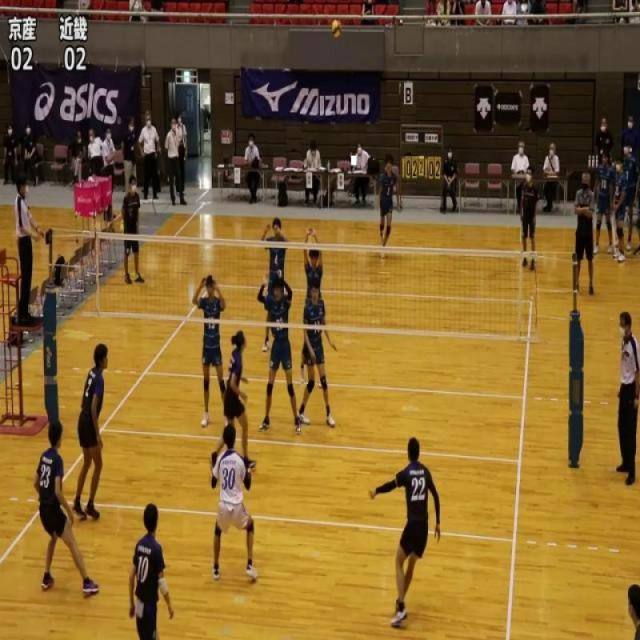volleyball: (331, 18, 342, 40)
